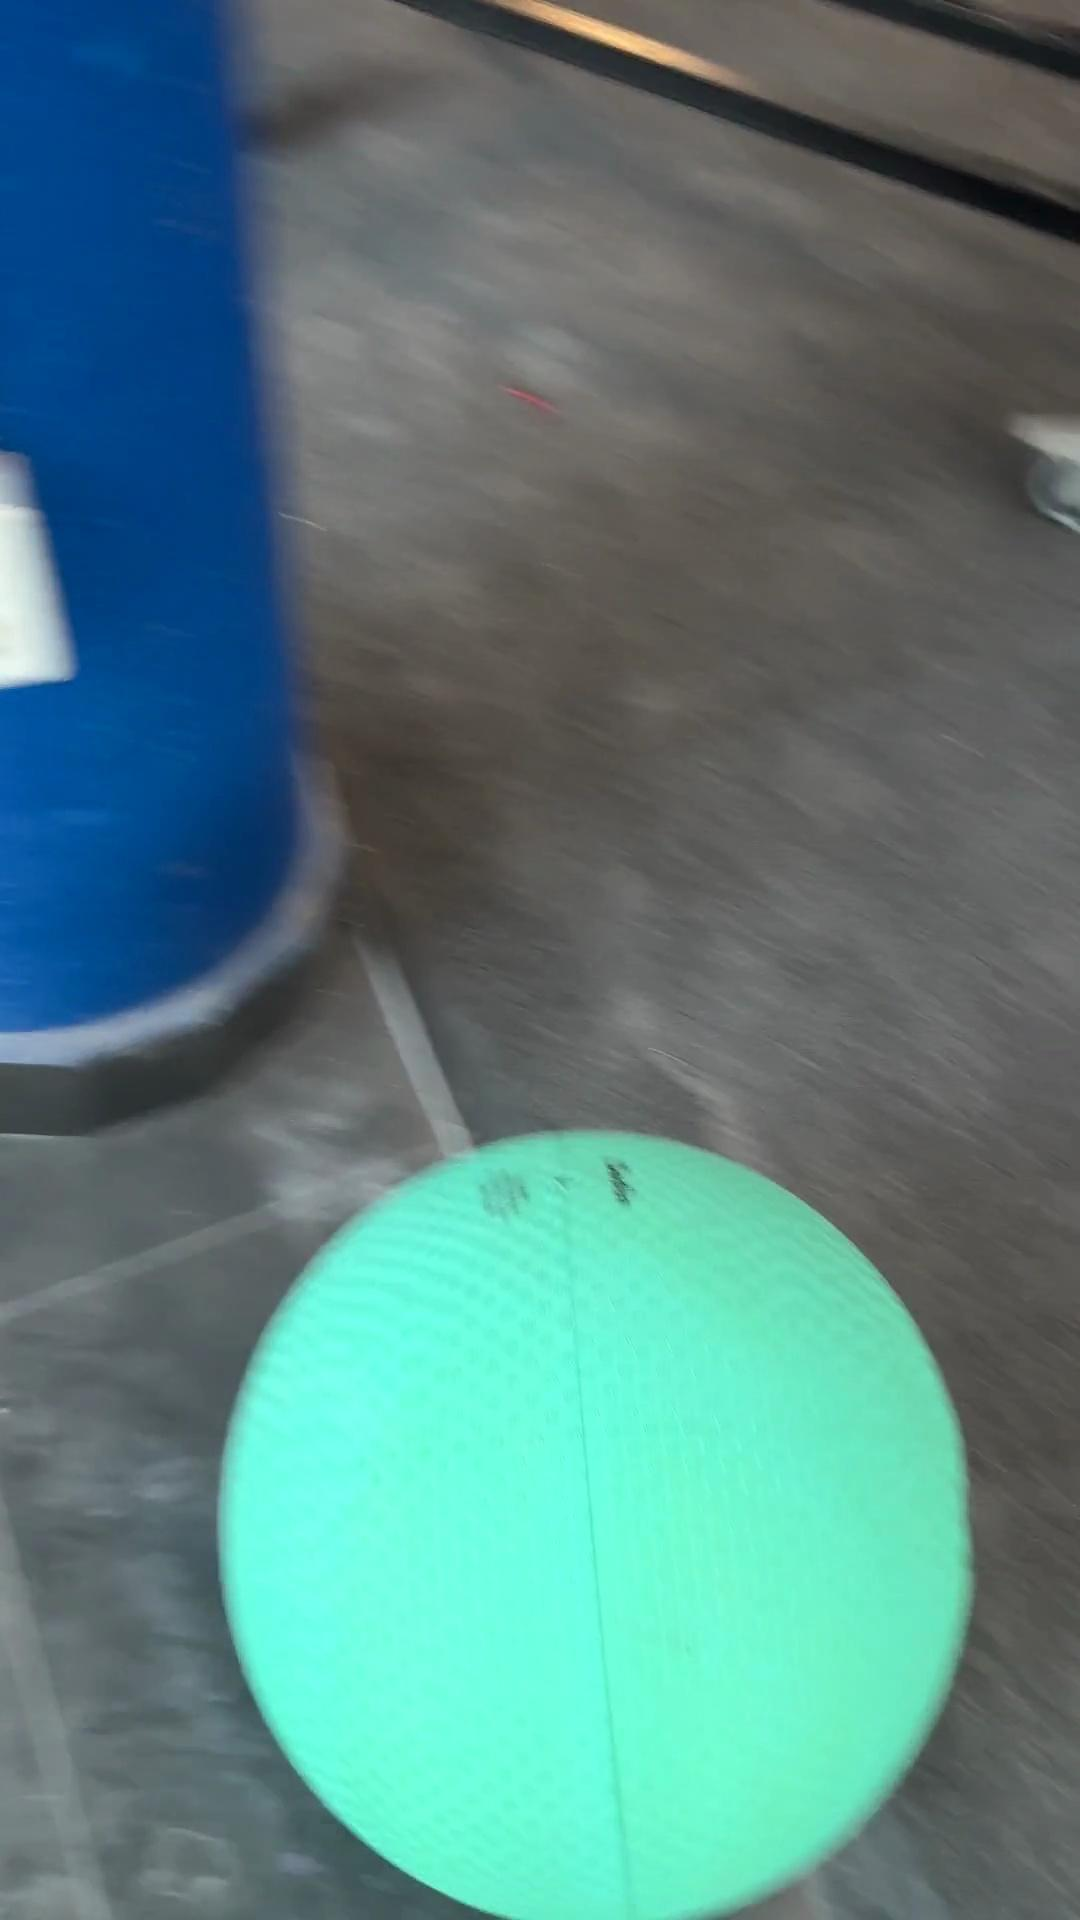ALGAE: (214, 1125, 976, 1916)
